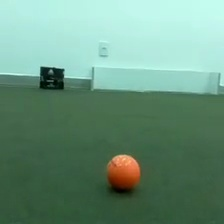ball: (103, 151, 142, 195)
goal: (88, 63, 222, 96)
robot: (37, 64, 66, 90)
